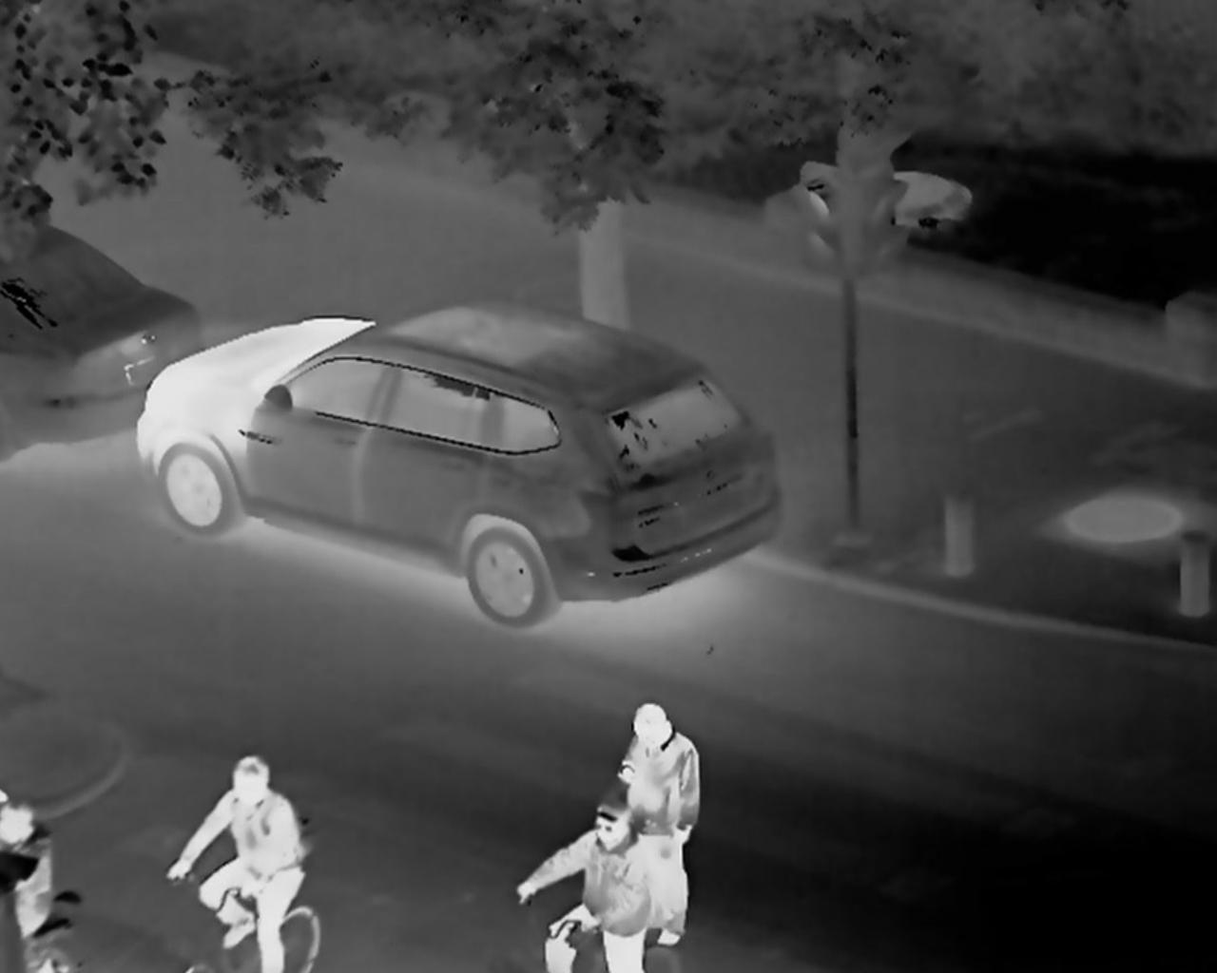person: (175, 735, 304, 973), (548, 796, 658, 973), (620, 687, 713, 806)
